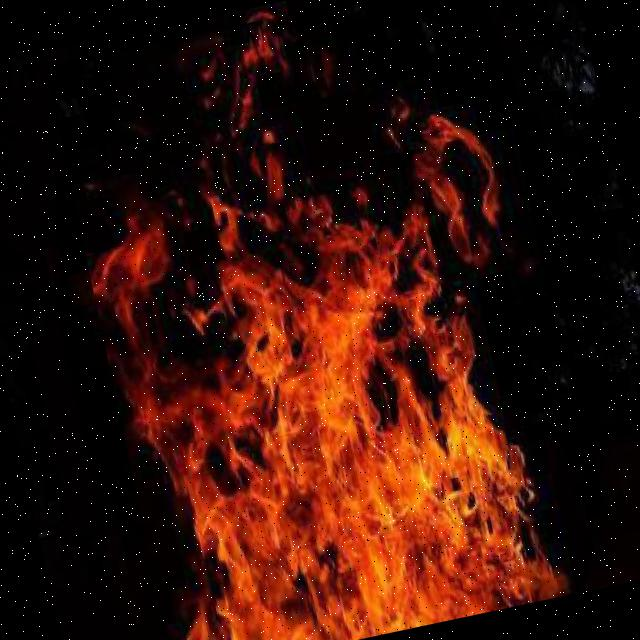fire: (45, 0, 615, 640)
